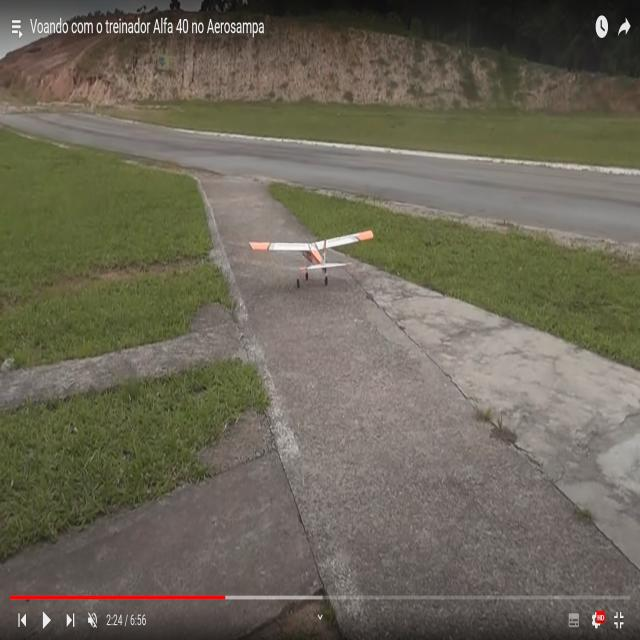iha: (281, 228, 342, 289)
